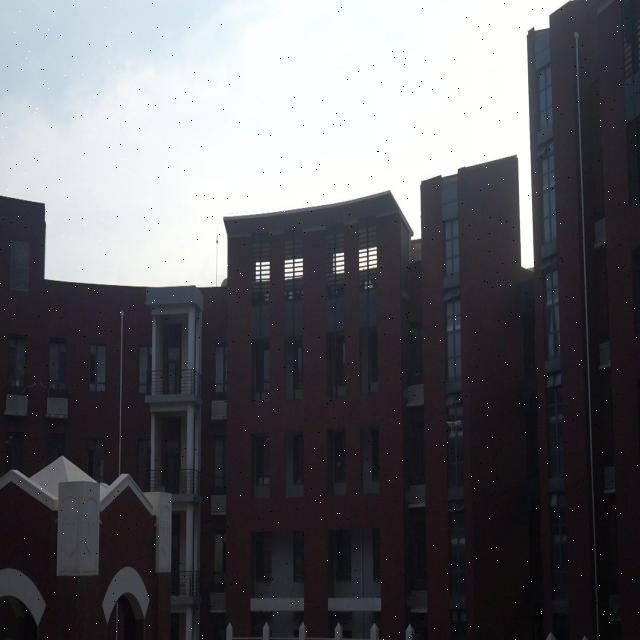UAV: (446, 420, 461, 432)
